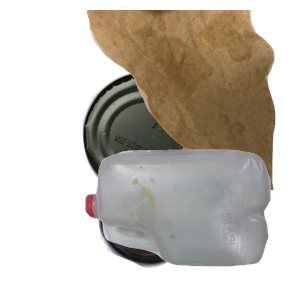glass: (95, 164, 286, 300)
metal: (80, 68, 284, 248)
plastic: (83, 147, 300, 300)
trash: (84, 10, 300, 190)
